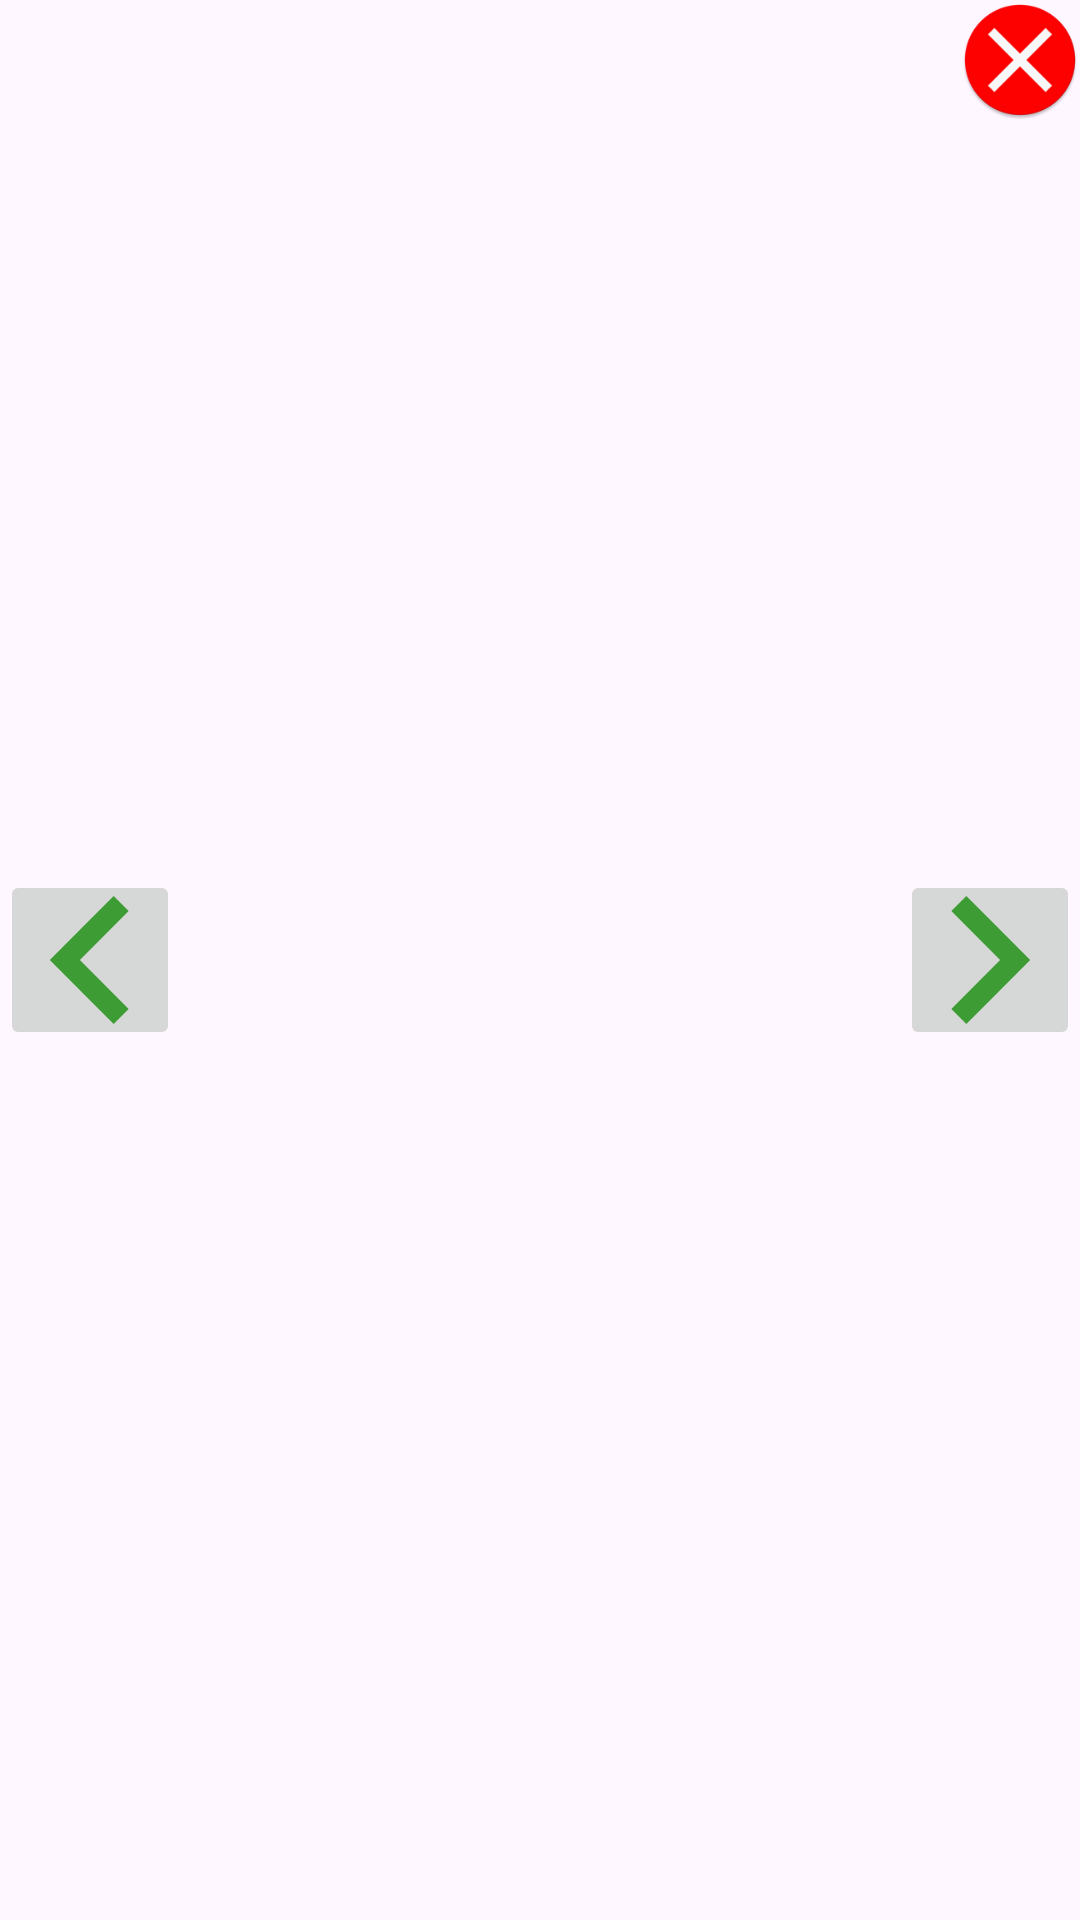

Point at icon controls on the screen. Image size 1080px x 1920px, points as (x=x, y=y).
back arrow: (x=90, y=960)
Exit Tutorial: (x=1020, y=61)
Next button: (x=990, y=960)
